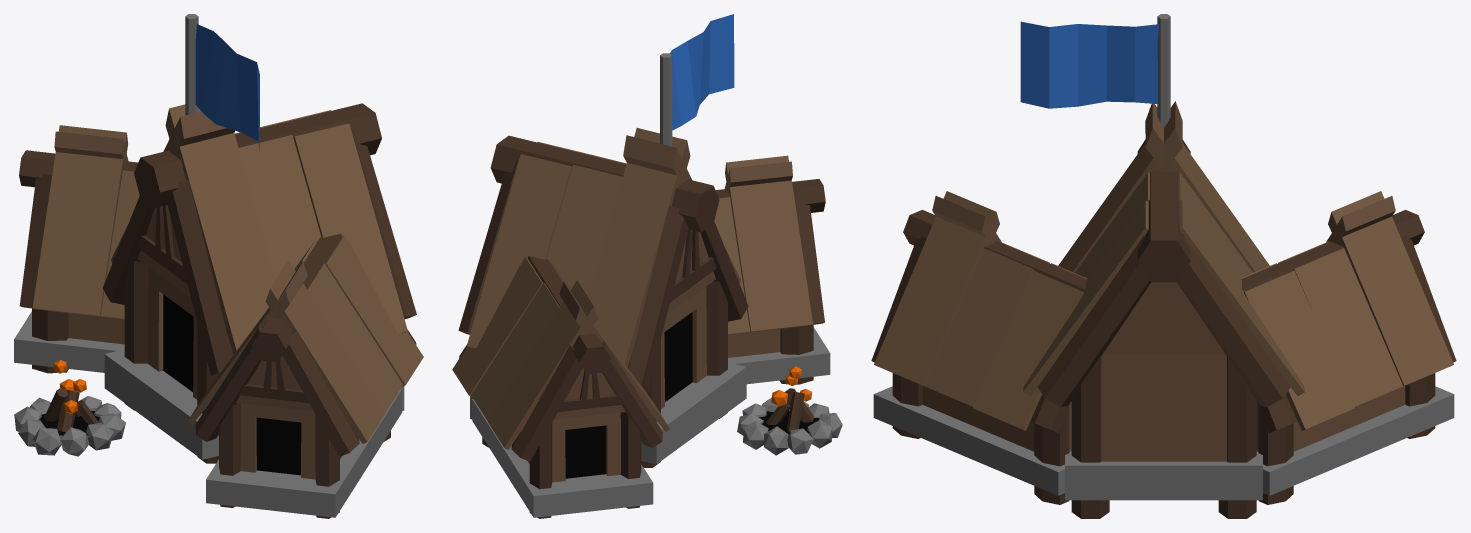
Rendered from HQ LvL 2.fbx.
The picture shows the model from 3 angles, left to right: view 1: azimuth 30°, elevation 25°; view 2: azimuth 150°, elevation 25°; view 3: azimuth 270°, elevation 25°; orthographic projection. The views are drawn at different scales.
Parts seen in each view (by area): view 1: Main.002, Corridor 2.001, Corridor 1.001, Fan, Fireplace.002, Fan Pole, Fire.002; view 2: Main.002, Corridor 1.001, Corridor 2.001, Fan, Fireplace.002, Fan Pole, Fire.002; view 3: Main.002, Corridor 2.001, Corridor 1.001, Fan, Fan Pole.
Part boxes in pixels (bbox=[...]): Main.002: bbox=[102, 103, 416, 463]; Corridor 2.001: bbox=[187, 233, 423, 518]; Corridor 1.001: bbox=[14, 125, 139, 373]; Fan: bbox=[195, 24, 259, 151]; Fireplace.002: bbox=[14, 388, 125, 456]; Fan Pole: bbox=[185, 14, 198, 115]; Fire.002: bbox=[53, 360, 86, 413]; Main.002: bbox=[458, 128, 748, 467]; Corridor 1.001: bbox=[452, 256, 669, 518]; Corridor 2.001: bbox=[714, 155, 830, 384]; Fan: bbox=[670, 14, 734, 130]; Fireplace.002: bbox=[737, 388, 842, 455]; Fan Pole: bbox=[660, 53, 672, 146]; Fire.002: bbox=[771, 366, 812, 406]; Main.002: bbox=[1023, 101, 1304, 518]; Corridor 2.001: bbox=[871, 191, 1087, 504]; Corridor 1.001: bbox=[1240, 191, 1456, 504]; Fan: bbox=[1020, 21, 1158, 108]; Fan Pole: bbox=[1157, 14, 1170, 127].
Size of the model in its own units: 128 by 146 by 182.
